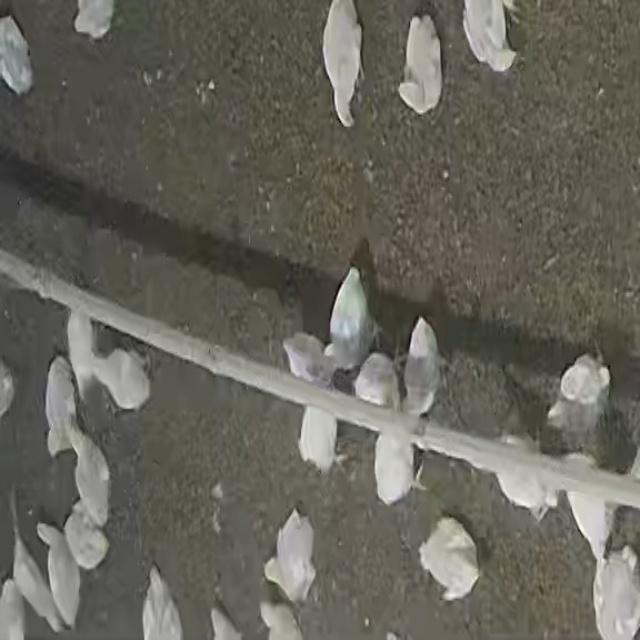chicken: (5, 508, 61, 633), (320, 1, 367, 126), (489, 438, 559, 520), (395, 12, 446, 118), (419, 514, 480, 602), (35, 521, 83, 627), (265, 508, 316, 606), (66, 423, 110, 529), (328, 265, 374, 366), (546, 366, 608, 436), (90, 344, 151, 413), (593, 549, 639, 639), (404, 316, 446, 414), (461, 1, 516, 72), (372, 423, 417, 508), (44, 357, 81, 458), (566, 477, 610, 560), (297, 403, 338, 481), (142, 566, 186, 638), (278, 332, 334, 386), (63, 508, 108, 574), (0, 16, 34, 96), (69, 310, 96, 400), (351, 359, 401, 405), (258, 600, 306, 640), (73, 0, 116, 40)
